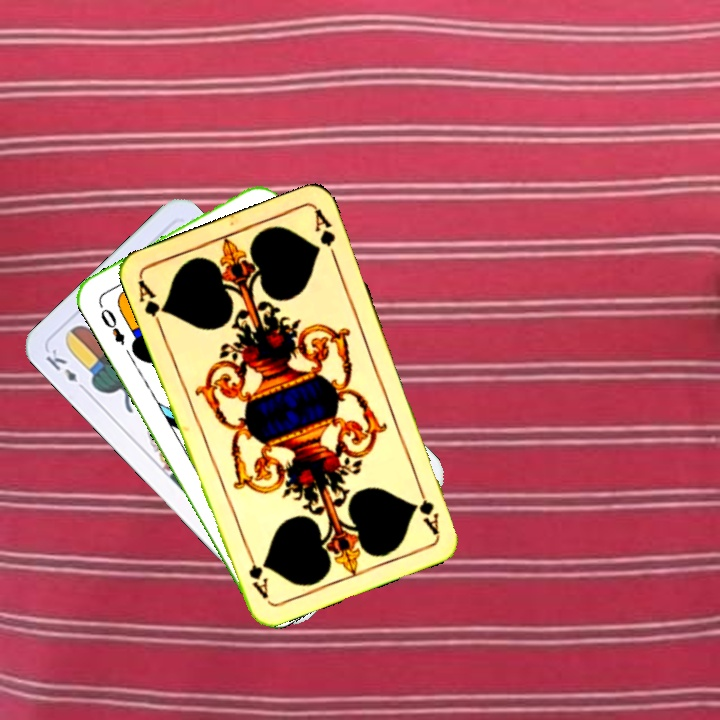EK: (42, 344, 90, 395)
EO: (96, 304, 128, 348)
GA: (134, 275, 170, 332), (413, 479, 442, 537)
